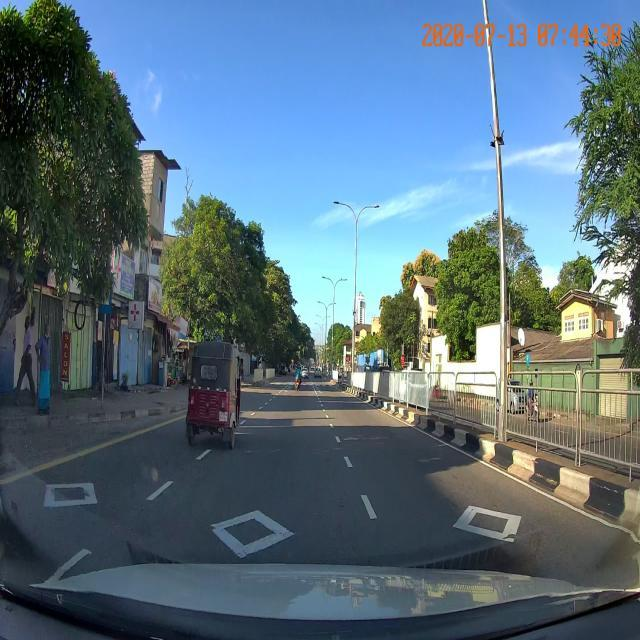diamond: (57, 492, 413, 561)
